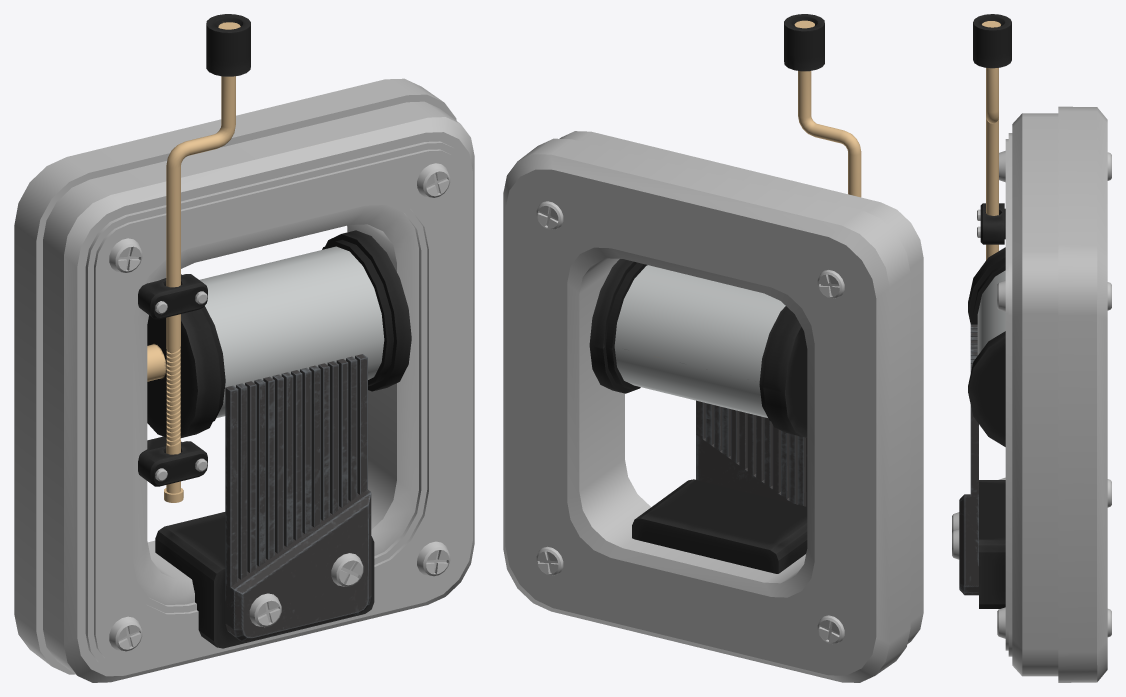
The model's file is Orgo.glb.
3 renders of one model, left to right at view 1: azimuth 30°, elevation 25°; view 2: azimuth 150°, elevation 25°; view 3: azimuth 270°, elevation 25°, orthographic. The views are drawn at different scales.
Parts seen in each view (by area): view 1: Cube.001; view 2: Cube.001; view 3: Cube.001.
Part boxes in pixels (<box>): Cube.001: <box>14,14,474,682</box>; Cube.001: <box>503,14,923,682</box>; Cube.001: <box>952,14,1111,682</box>.
Bounding box in the file's own units: 0.6782 × 0.9996 × 0.2566.
1 material, 1 textured.
